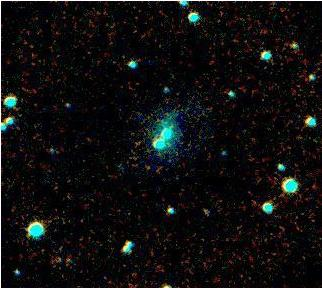star: (131, 158, 161, 188)
